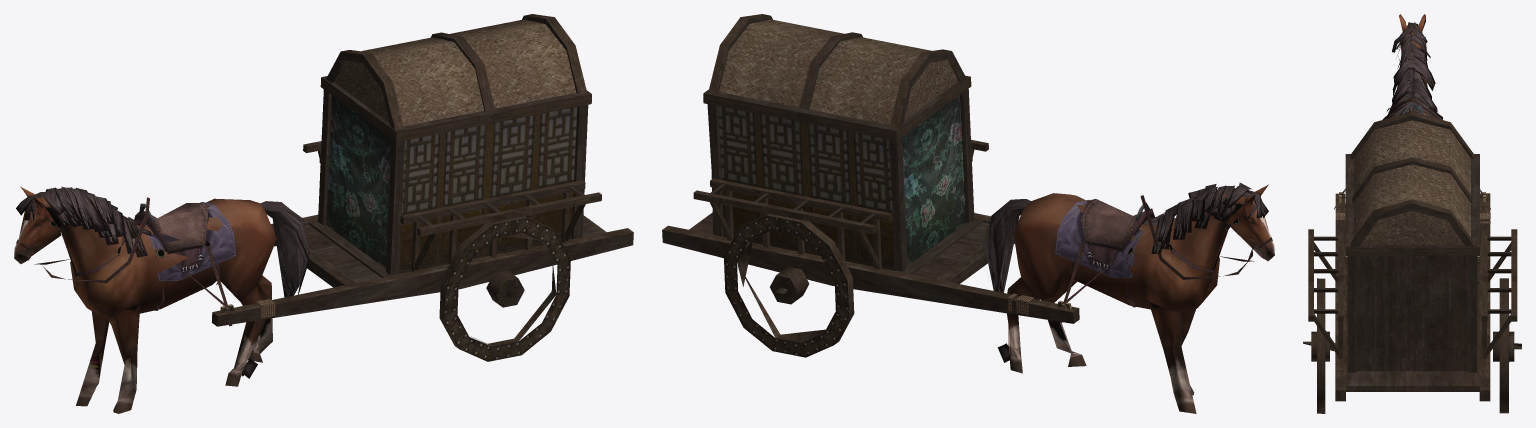
The model's file is CCarriage.glb.
3 views of the same model, side by side, from view 1: azimuth 30°, elevation 25°; view 2: azimuth 150°, elevation 25°; view 3: azimuth 270°, elevation 25° (orthographic). The views are drawn at different scales.
Visible parts, largest first — view 1: Obj3d66-19409988-5-137, Obj3d66-19409988-6-538, Obj3d66-19409988-3-920, Obj3d66-19409988-2-145, Obj3d66-19409988-7-608; view 2: Obj3d66-19409988-5-137, Obj3d66-19409988-6-538, Obj3d66-19409988-3-920, Obj3d66-19409988-7-608, Obj3d66-19409988-2-145; view 3: Obj3d66-19409988-6-538, Obj3d66-19409988-5-137, Obj3d66-19409988-2-145, Obj3d66-19409988-7-608, Obj3d66-19409988-3-920.
Part boxes in pixels (x1,y1,x2,y2): Obj3d66-19409988-5-137: (256, 19, 577, 361); Obj3d66-19409988-6-538: (211, 14, 633, 348); Obj3d66-19409988-3-920: (14, 186, 276, 413); Obj3d66-19409988-2-145: (16, 186, 309, 378); Obj3d66-19409988-7-608: (16, 197, 236, 326); Obj3d66-19409988-5-137: (718, 19, 1034, 357); Obj3d66-19409988-6-538: (662, 14, 1079, 344); Obj3d66-19409988-3-920: (1007, 184, 1274, 413); Obj3d66-19409988-7-608: (1055, 188, 1272, 322); Obj3d66-19409988-2-145: (983, 182, 1268, 362); Obj3d66-19409988-6-538: (1303, 111, 1521, 413); Obj3d66-19409988-5-137: (1335, 120, 1490, 244); Obj3d66-19409988-2-145: (1387, 22, 1442, 119); Obj3d66-19409988-7-608: (1334, 31, 1490, 209); Obj3d66-19409988-3-920: (1392, 14, 1430, 116).
Size of the model in its own units: 1.98 by 0.9509 by 0.7301.
Materials: 5 (5 with a texture image).
